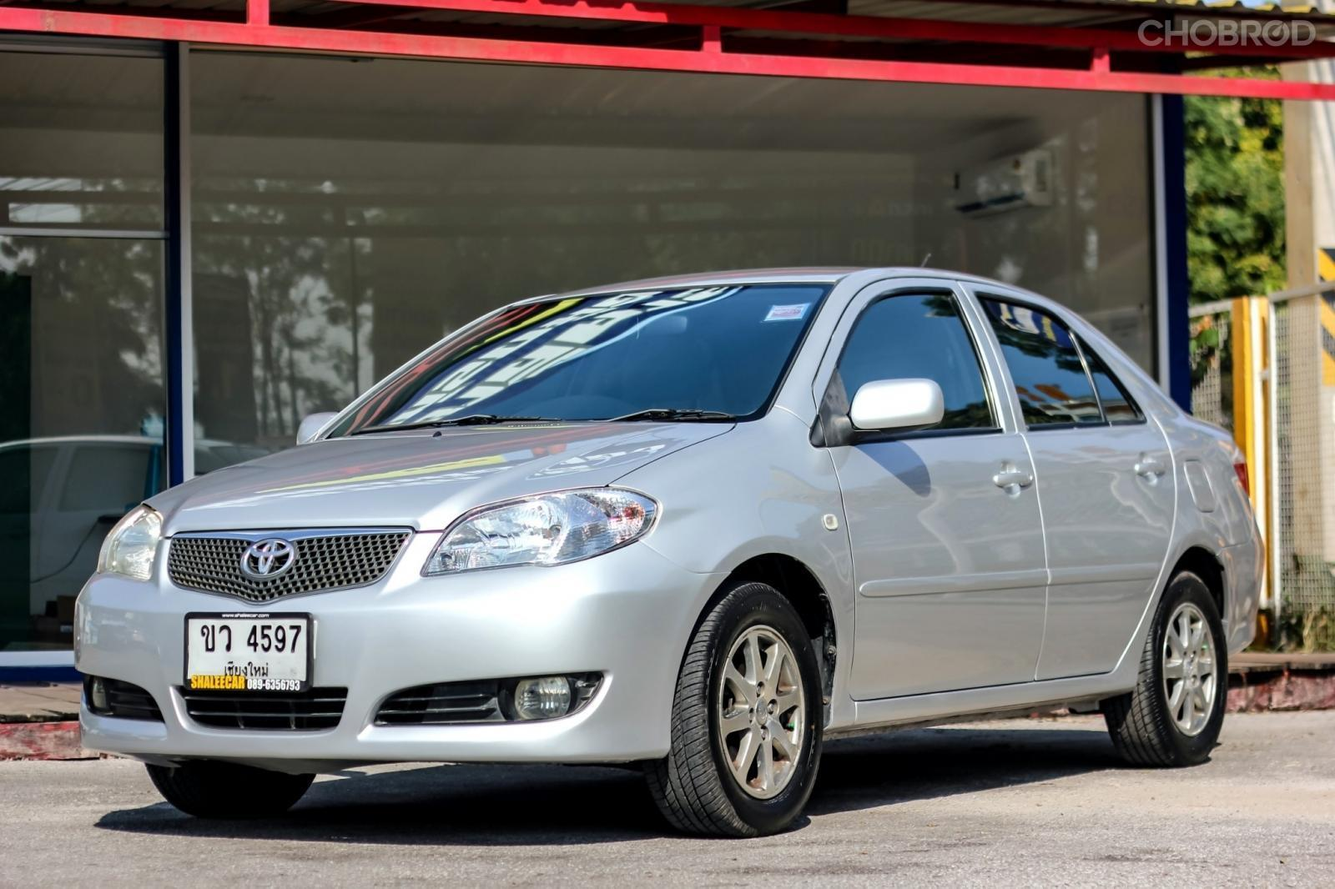license-plate: (174, 605, 323, 709)
